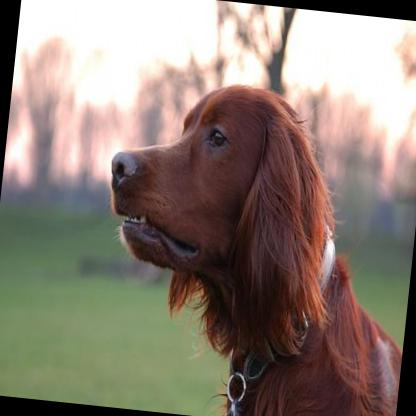Irish_setter: (83, 66, 416, 416)
